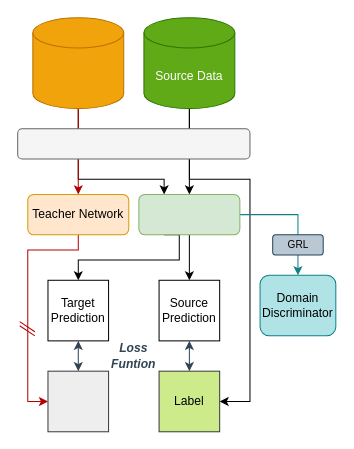
The diagram is 354 pixels wide and 449 high, and some of its shapes have lost their labels. Here are the shapes that lost their labels. From the top down, the centre of each, then its label:
At point 78,63: "Target Data".
At point 133,143: "Data Preprocessing".
At point 189,214: "Student Network".
At point 78,401: "Pseudo Label".
